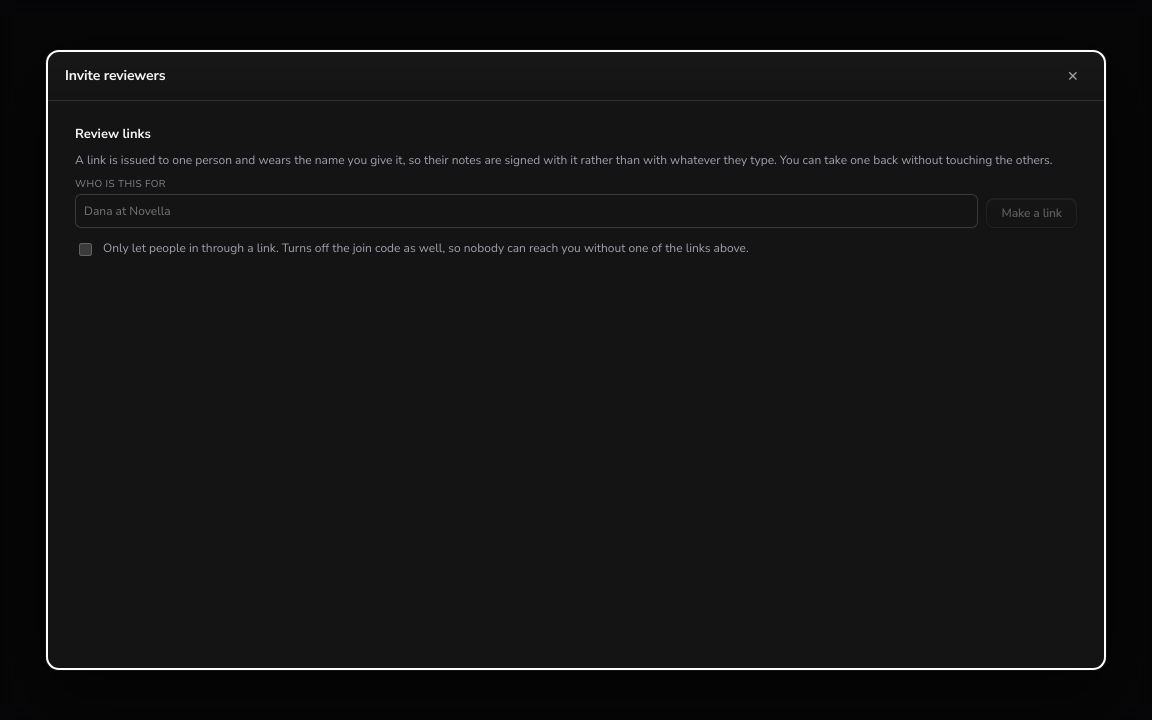
clears the matching one-time link and copy feedback after withdrawal
Type "Test reviewer" into the field labelled "Who is this for" at (527, 211), box [75,194,978,228]
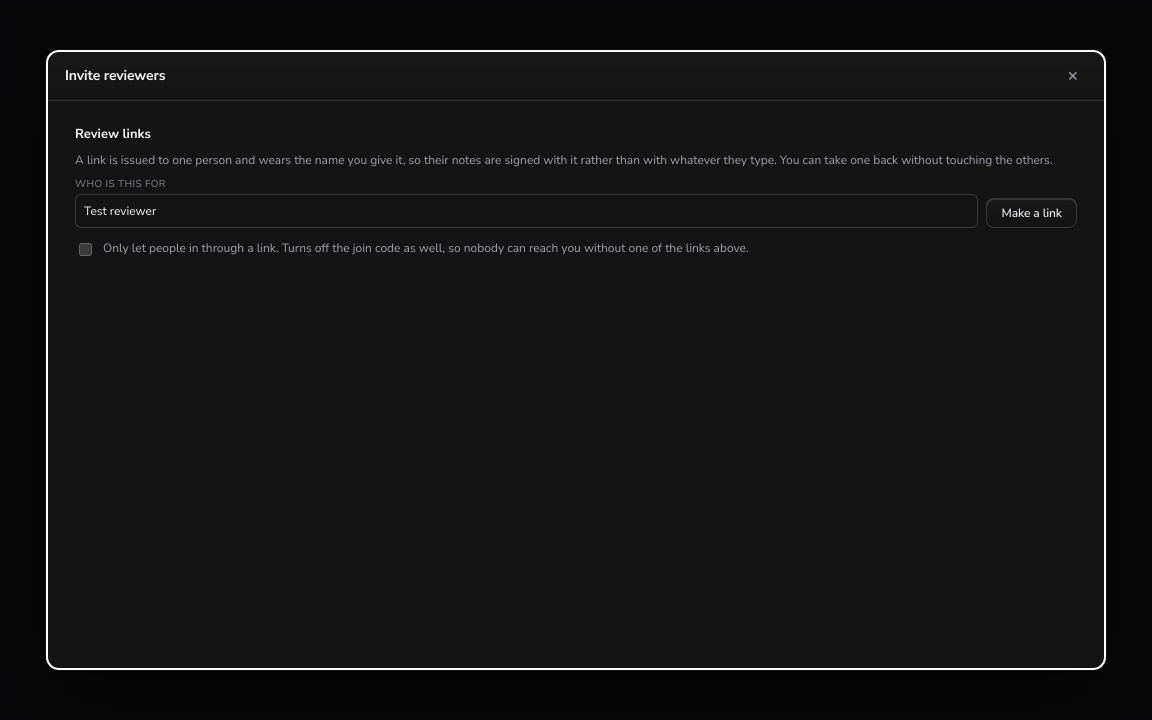
Click the button "Make a link" at (1032, 213), box [986,198,1077,228]
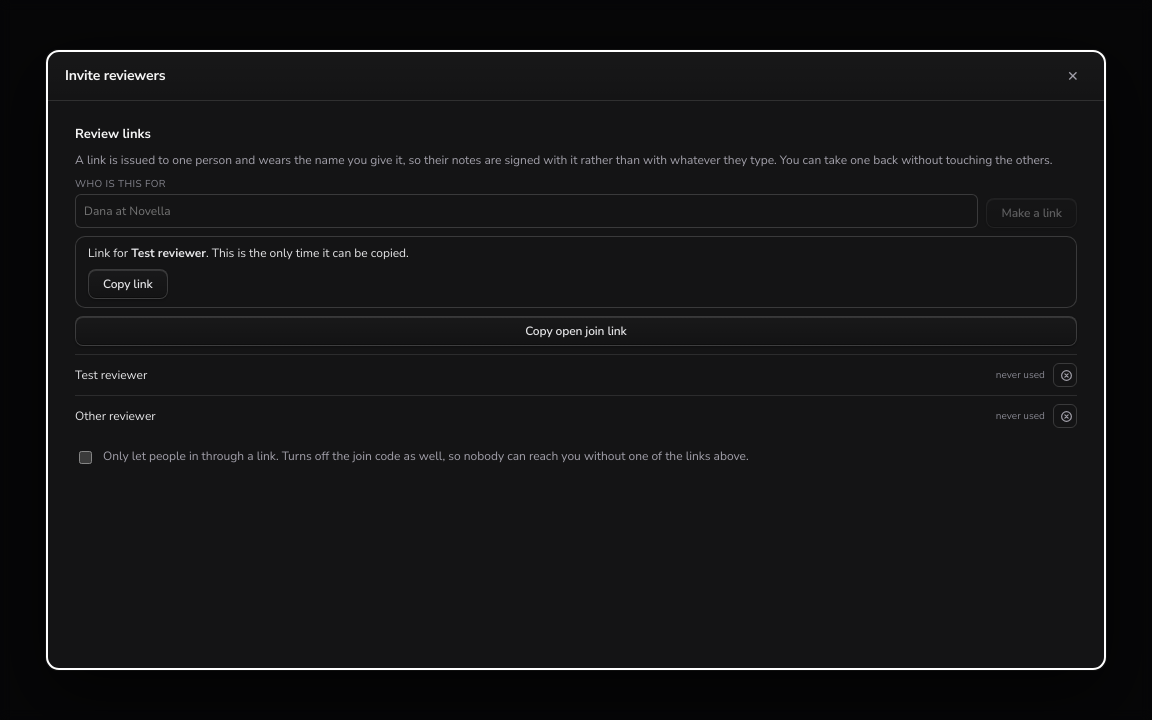
Check: the button "Copy link" is shown
Click the button "Copy link" at (128, 284), box [88,269,168,299]
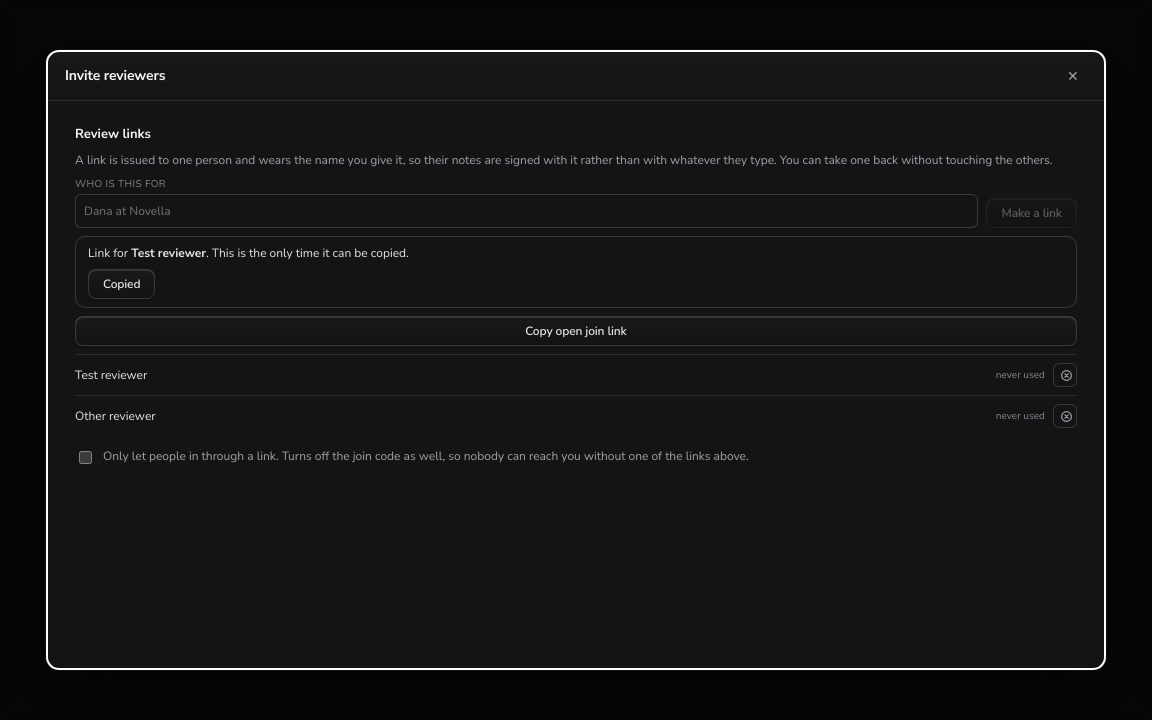
Check: the button "Copied" is shown, box [88,269,155,299]
Click the button named "Withdraw the link for Test reviewer" at (1065, 375), box [1053,363,1077,387]
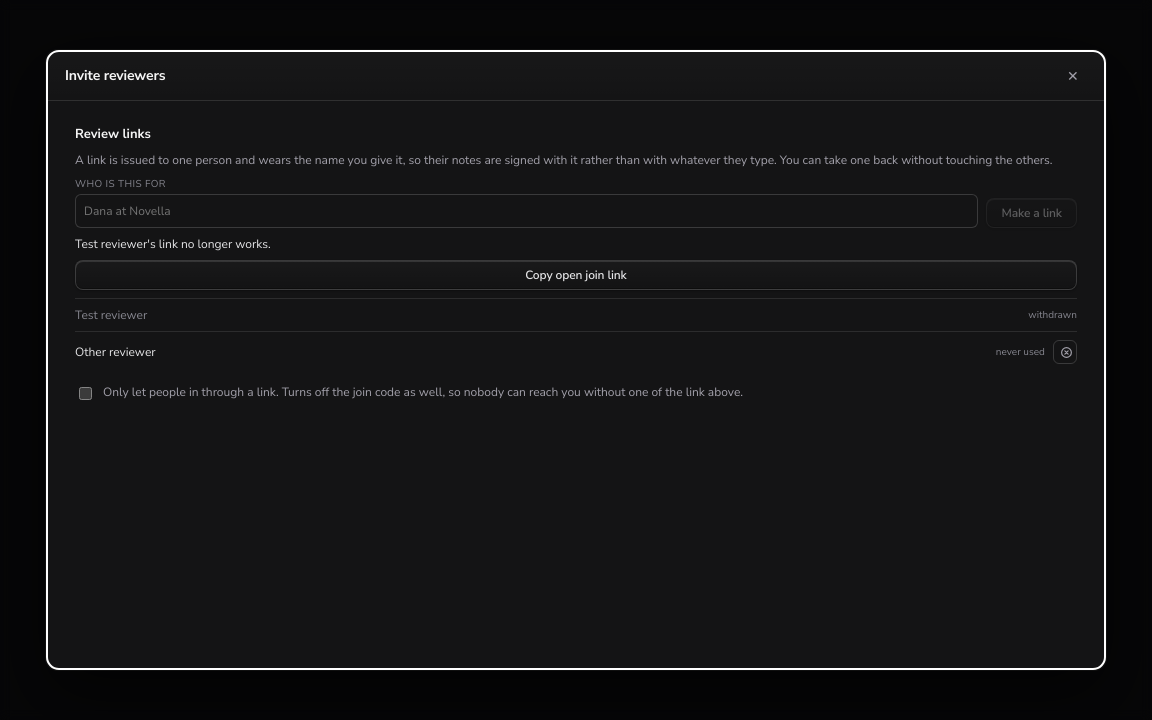
Check: the button "Copy link" is not shown
Check: the text "withdrawn" is shown, box [1028,308,1077,322]
Check: the button "copied" is gone
